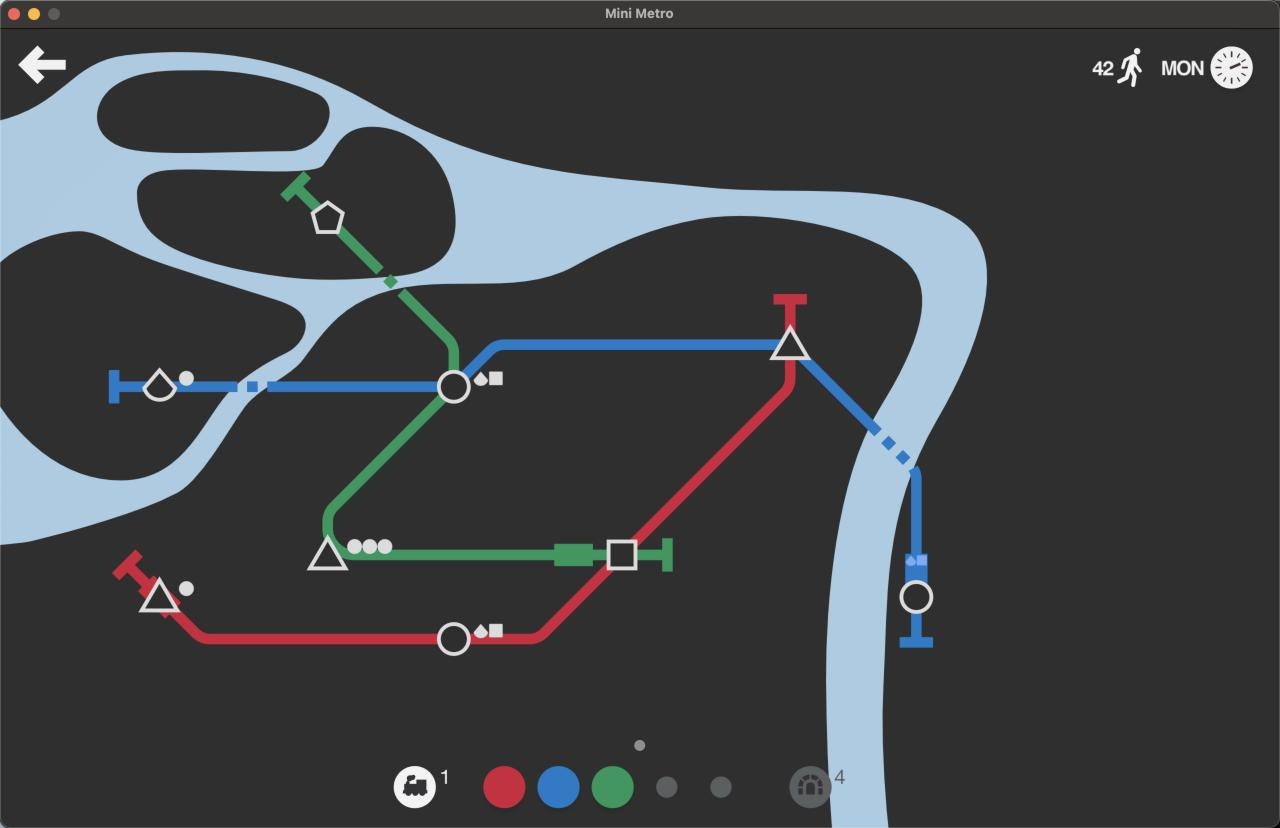CIRCLE: (436, 368, 472, 404), (436, 621, 471, 657), (900, 579, 934, 615)
PENTAGON: (310, 200, 344, 235)
SQUARE: (606, 538, 638, 571)
TRIANGLE: (138, 576, 182, 614), (305, 535, 349, 573), (769, 324, 812, 362)
WEDGE: (142, 367, 178, 403)
